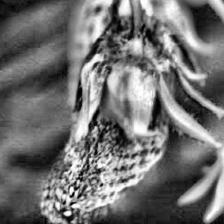Gray Mold: (40, 0, 184, 224)
